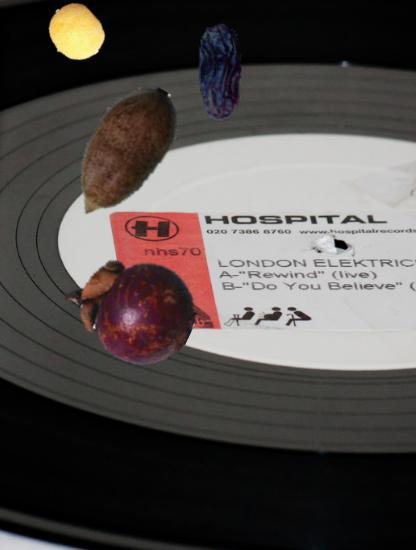Cantaloupe: (46, 4, 105, 63)
Dates: (172, 24, 269, 121)
Mangostan: (64, 241, 197, 374)
Nut: (51, 79, 197, 225)
